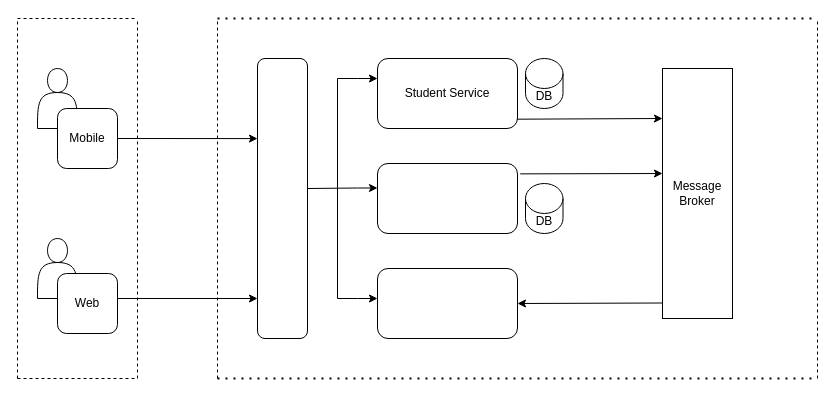
The diagram is 837 pixels wide and 397 high, and some of its shapes have lost their labels. Each missing label, with the centre of its shape:
"API Gateway" goes at pixel 282 198.
"Fees Service" goes at pixel 447 198.
"Payment Service" goes at pixel 447 303.
